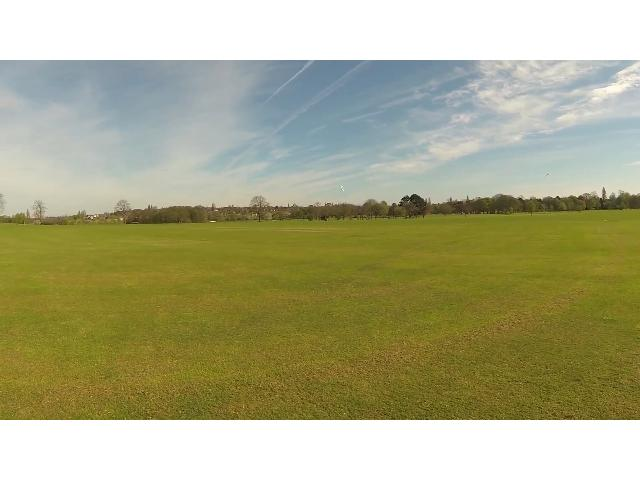Anti-Drone: (340, 183, 346, 193)
